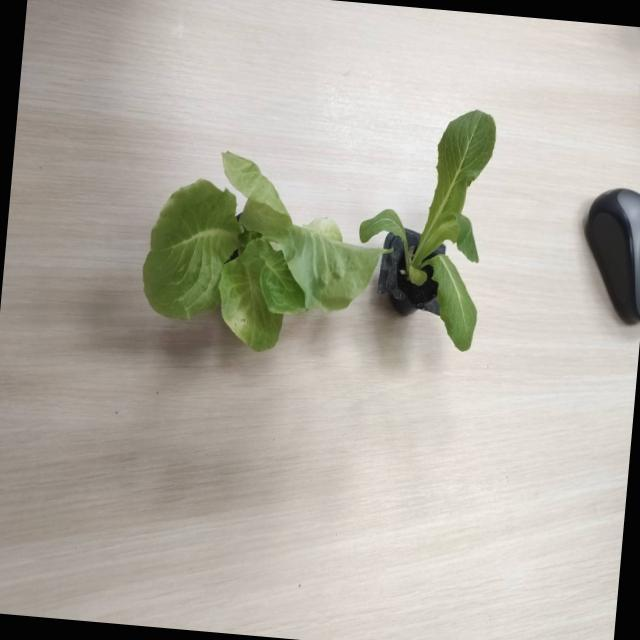Lettuce-Not-Ready-to-Harvest: (143, 153, 383, 349), (359, 109, 496, 351)
